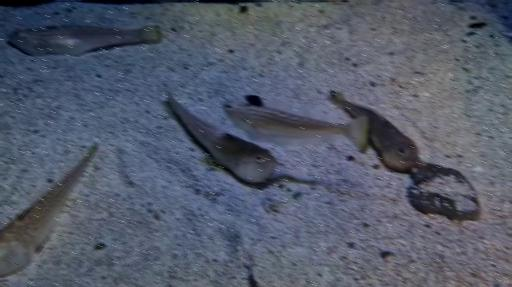Fish: (0, 143, 97, 269), (167, 91, 277, 183), (224, 95, 368, 151), (330, 90, 422, 172), (6, 26, 162, 55), (247, 95, 263, 105), (248, 265, 254, 286)
